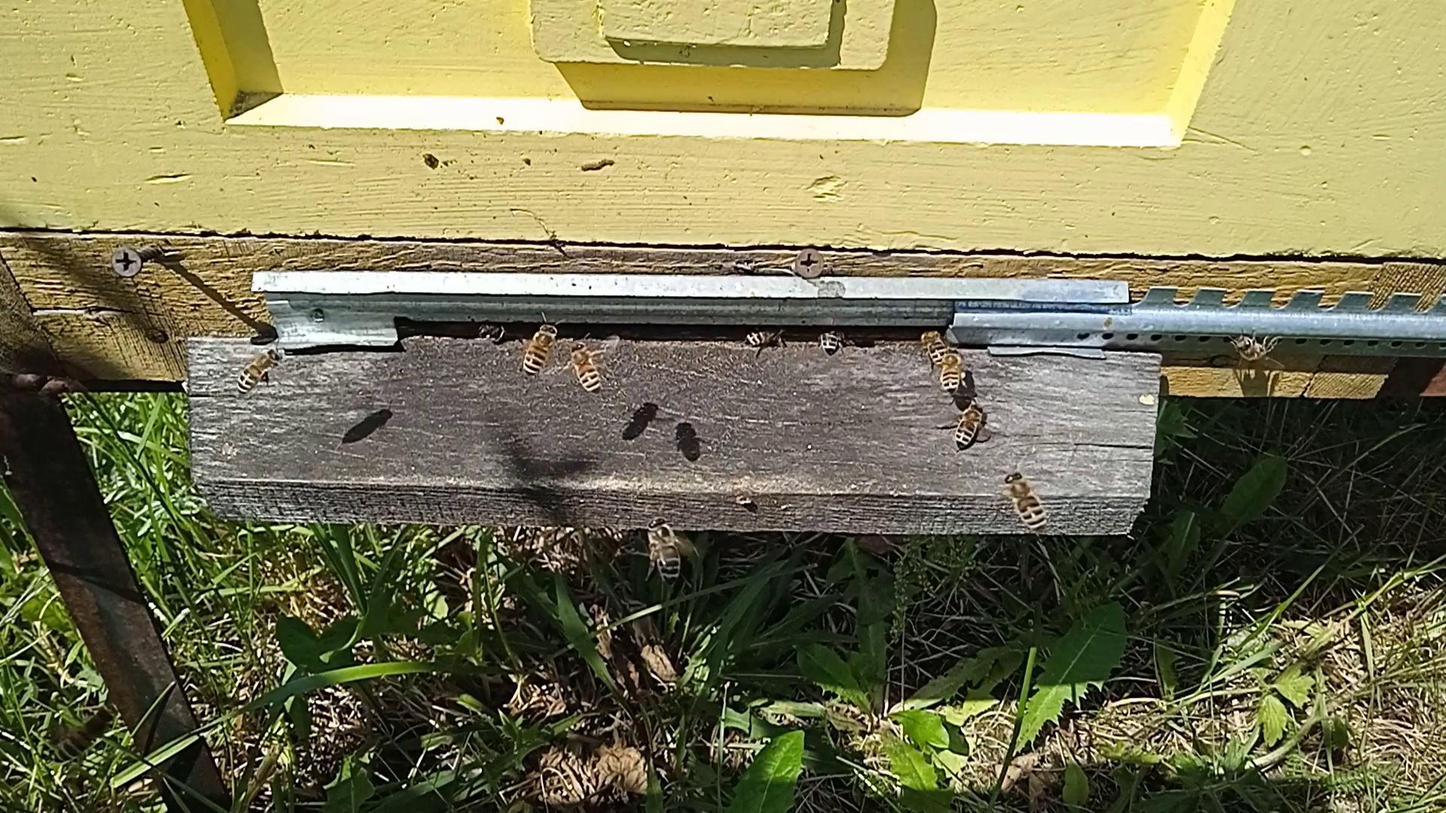worker-bee: (53, 705, 115, 763), (643, 516, 685, 586), (1002, 470, 1048, 531), (520, 321, 560, 379), (237, 348, 283, 394), (567, 341, 603, 394), (953, 400, 987, 449), (936, 346, 968, 394), (1228, 335, 1280, 363), (918, 328, 949, 366), (816, 325, 849, 355), (743, 327, 786, 348), (474, 321, 508, 343)
